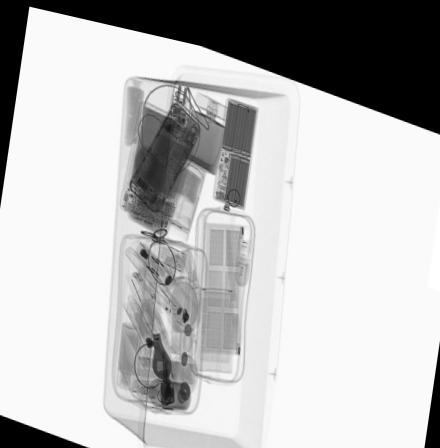Powerbank: (210, 84, 261, 202)
